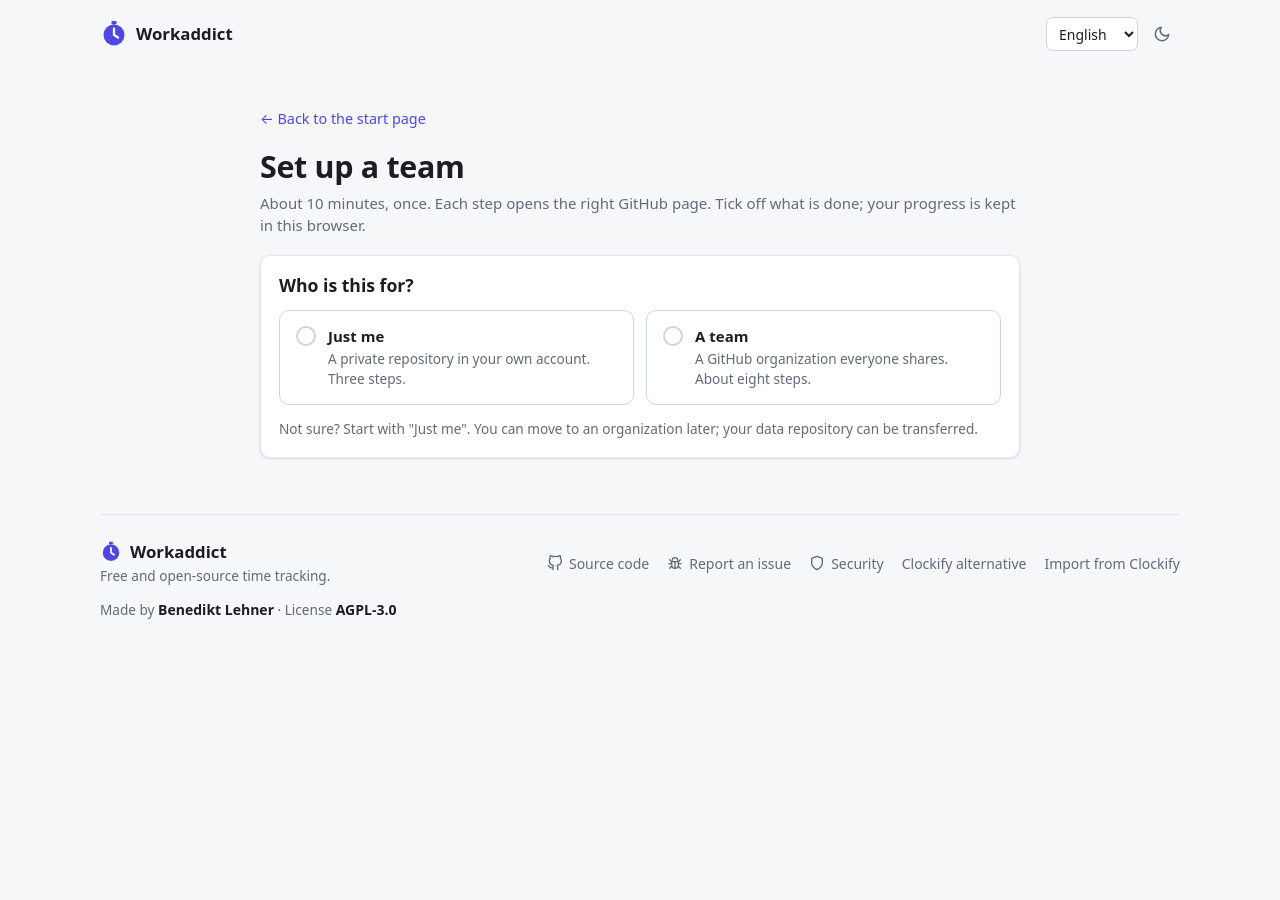
setup wizard › keeps the path choice visible and selected
The width and height of the screenshot is (1280, 900).
Expected: the radio button labelled "Just me" is not checked, [279,310,634,405]
Expected: the field labelled "Organization name" is not shown
Click the radio button labelled "A team" at (824, 357), box [646,310,1001,405]
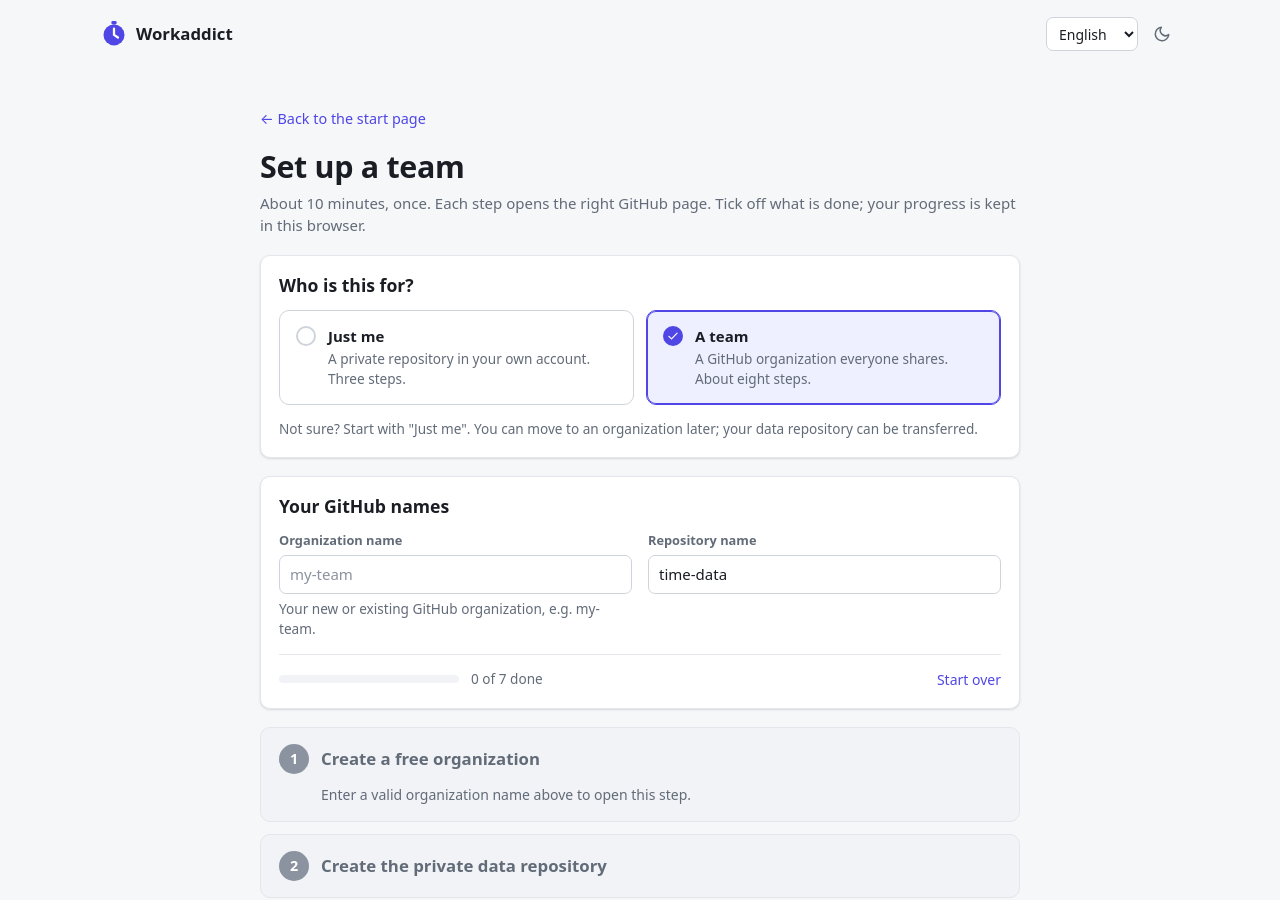
Expected: the radio button labelled "Just me" is not checked, [279,310,634,405]
Now the radio button labelled "A team" is checked, box [646,310,1001,405]
Now the field labelled "Organization name" is shown, box [279,555,632,594]
